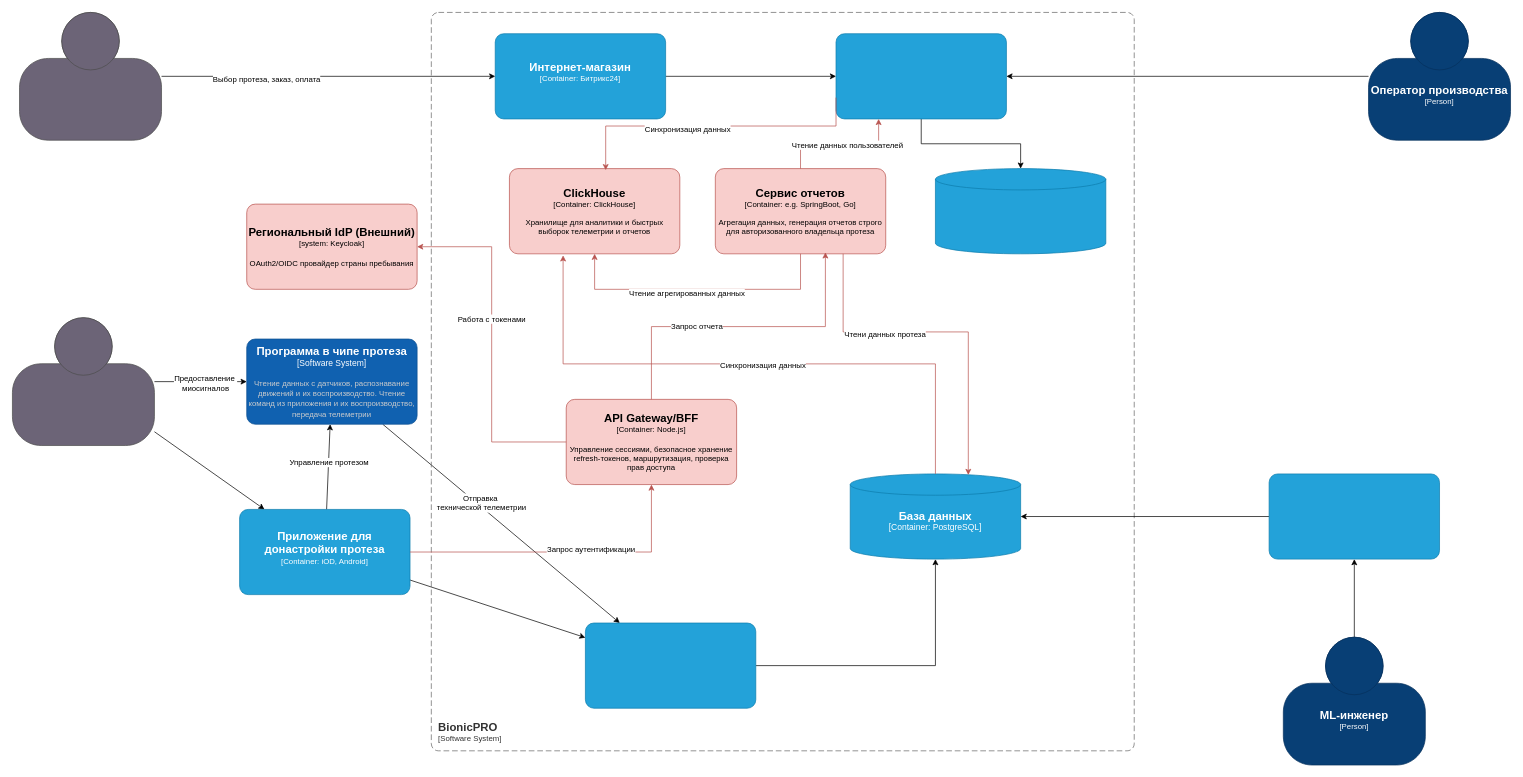
Image size: 1523x777. Some labels were removed from this diagram. Each missing label, with the box of its shape:
API [Container: e.g. SpringBoot, ElasticSearch, etc.]: (585, 622, 756, 708)
cli tool [Container: e.g. SpringBoot, ElasticSearch, etc.]: (1268, 473, 1440, 559)
CRM [Container: Битрикс24]: (835, 33, 1006, 119)
CRM DB [Container: e.g. Oracle Database 12]: (935, 168, 1106, 254)
Пилот протеза [Person] С этого человека считываются данные: (12, 317, 154, 446)
Покупатель протеза [Person]: (19, 12, 162, 140)
